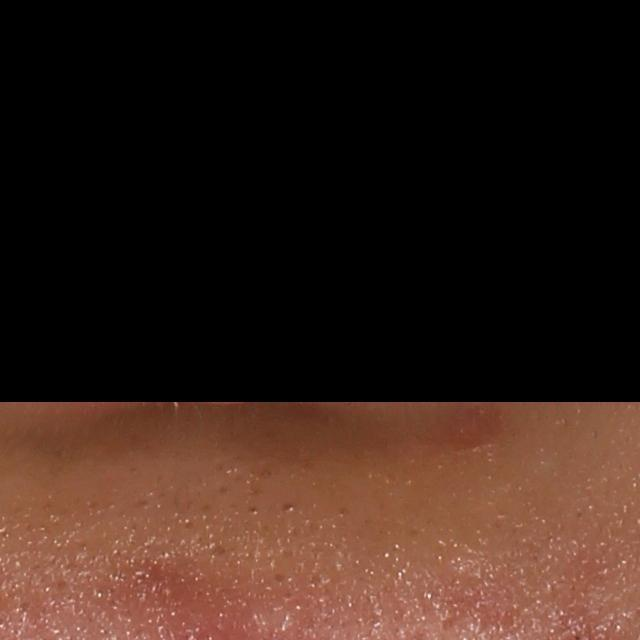comedo: (207, 541, 226, 562), (268, 569, 288, 587), (247, 505, 260, 516)
